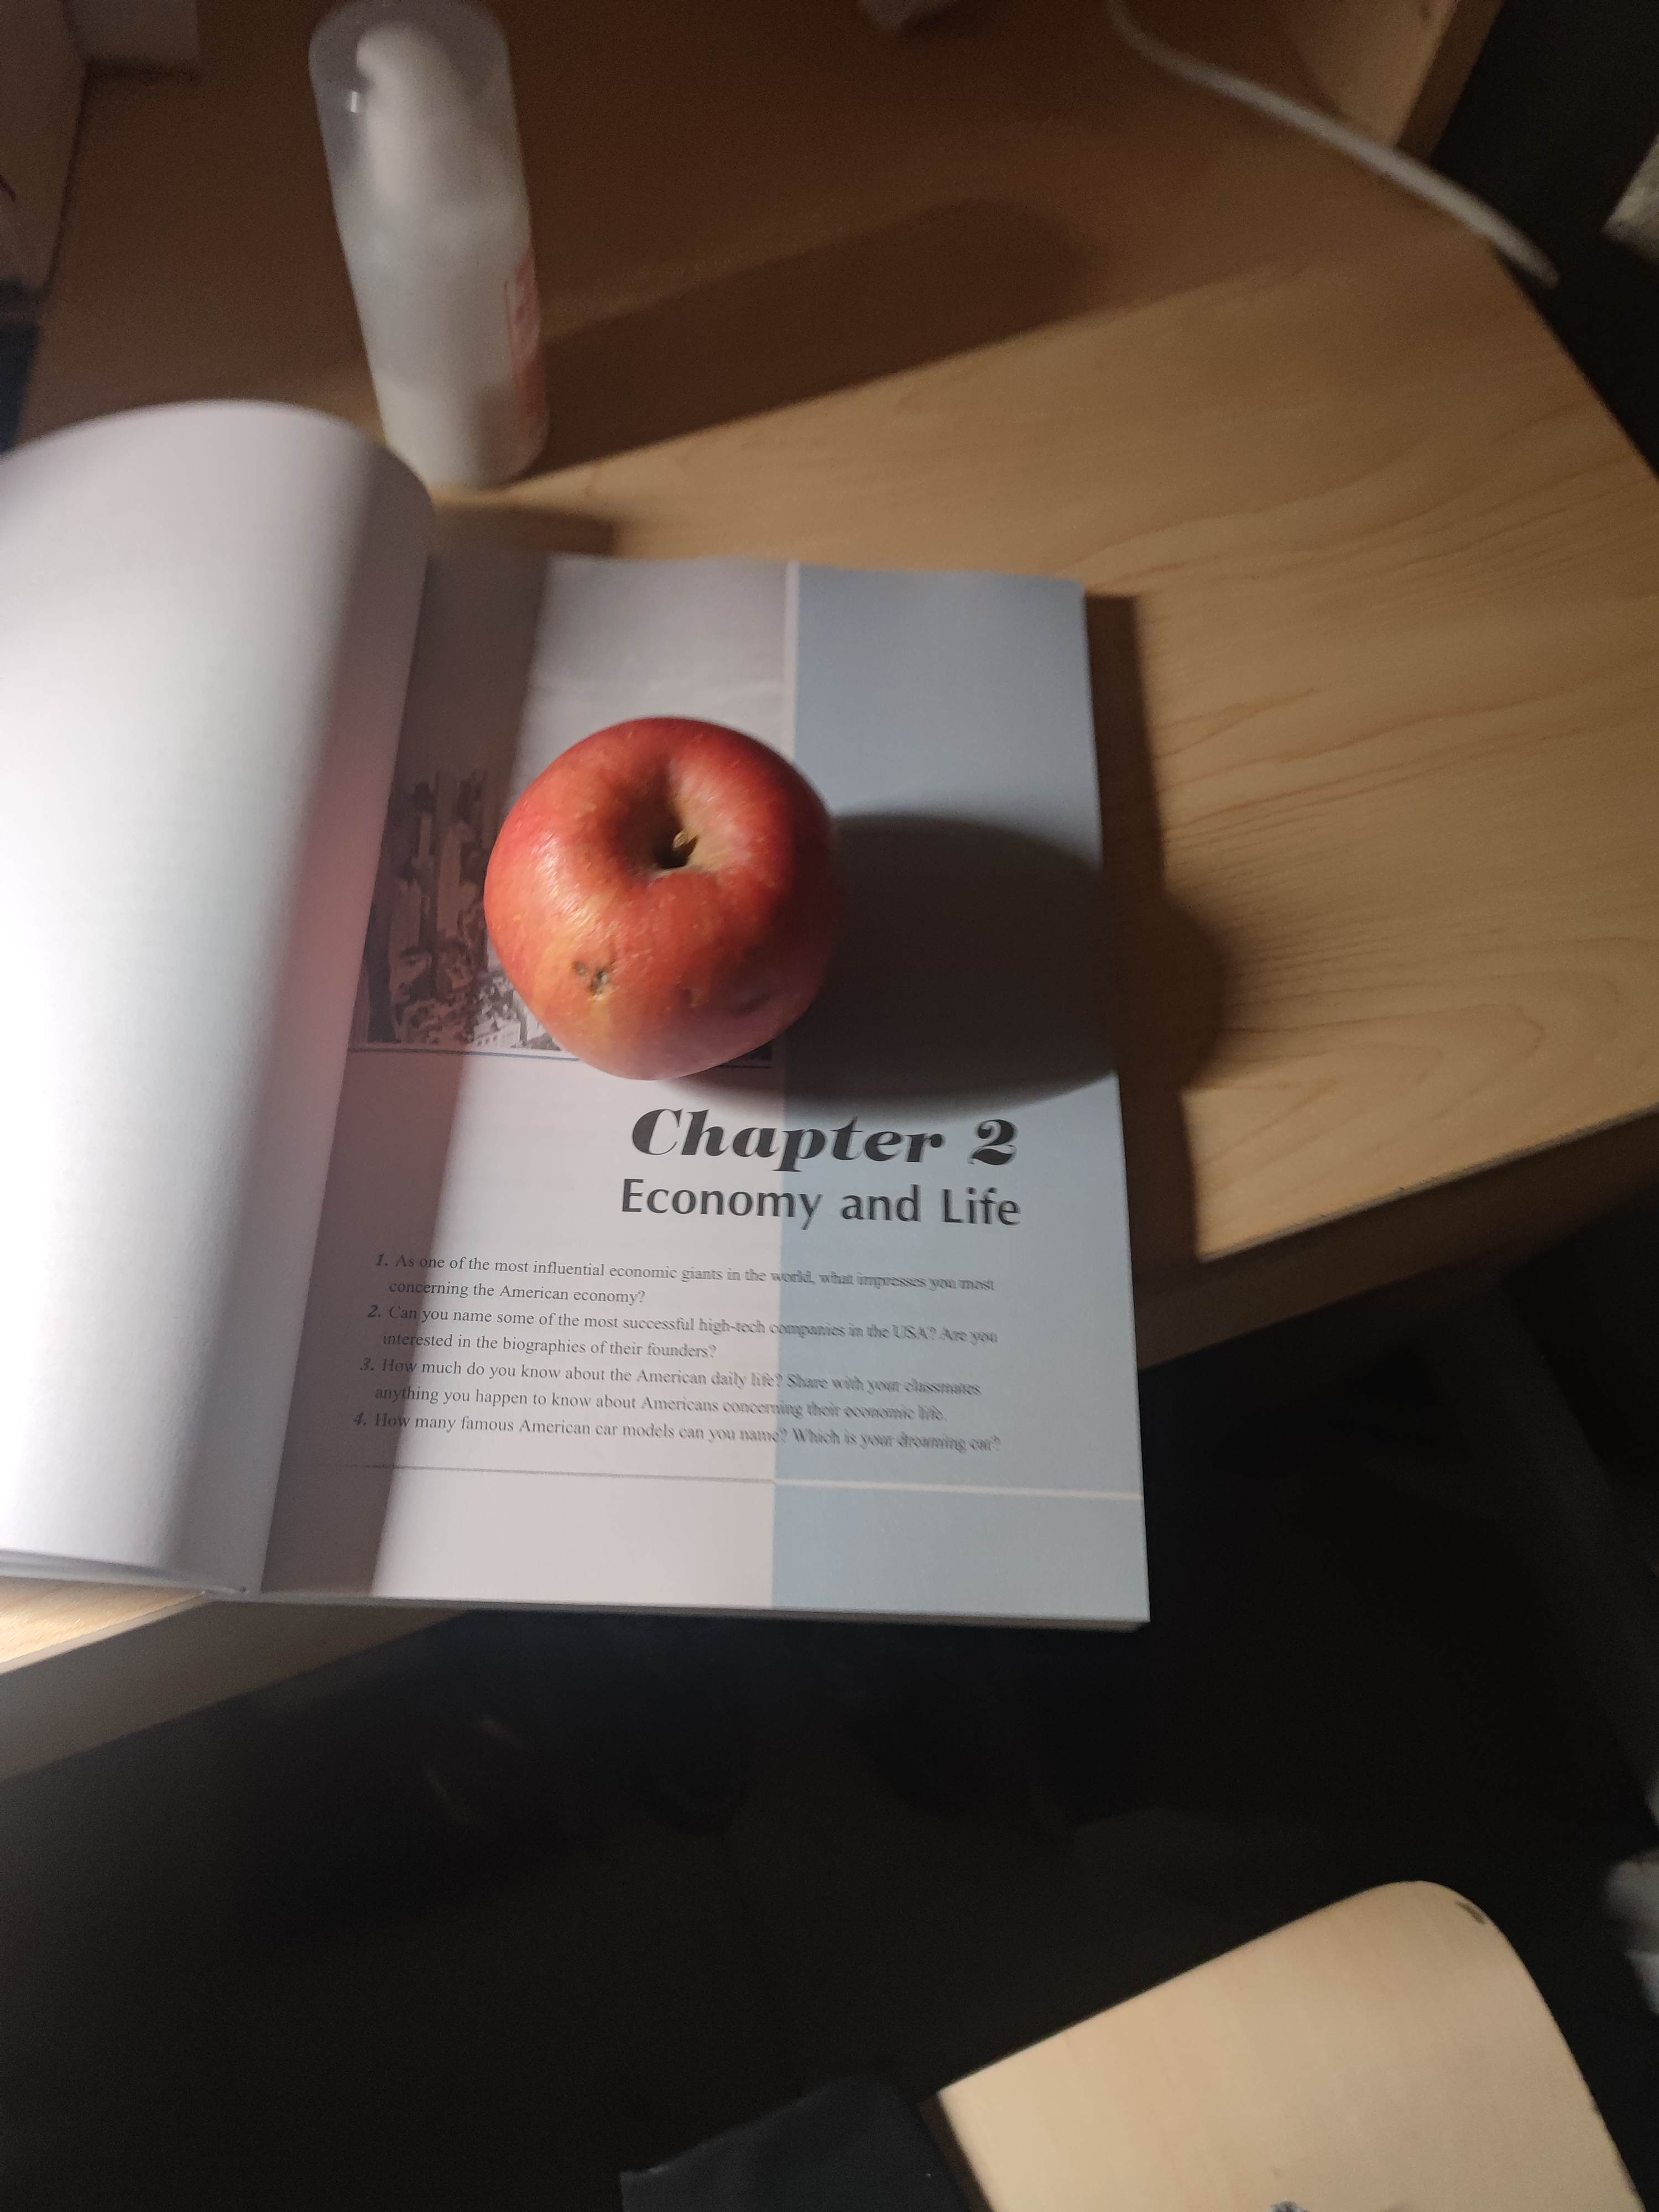apple: (474, 711, 852, 1090)
